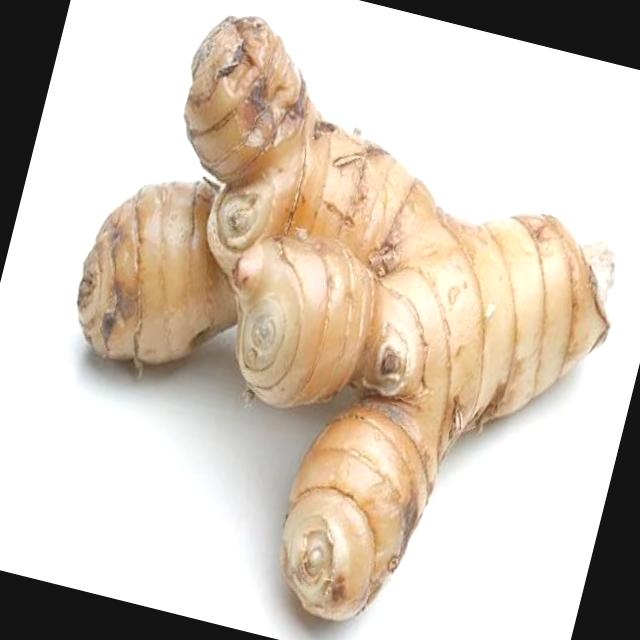ginger-root: (8, 0, 640, 640)
